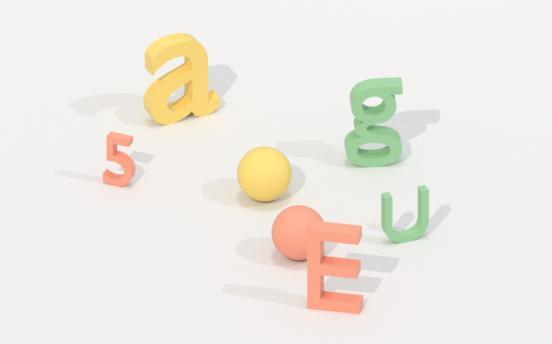chu_khoi: (143, 33, 219, 124), (306, 216, 362, 313), (344, 77, 402, 166), (381, 185, 429, 242)
hinh_cau: (237, 146, 291, 201), (272, 205, 321, 260)
so_khoi: (103, 132, 134, 186)
